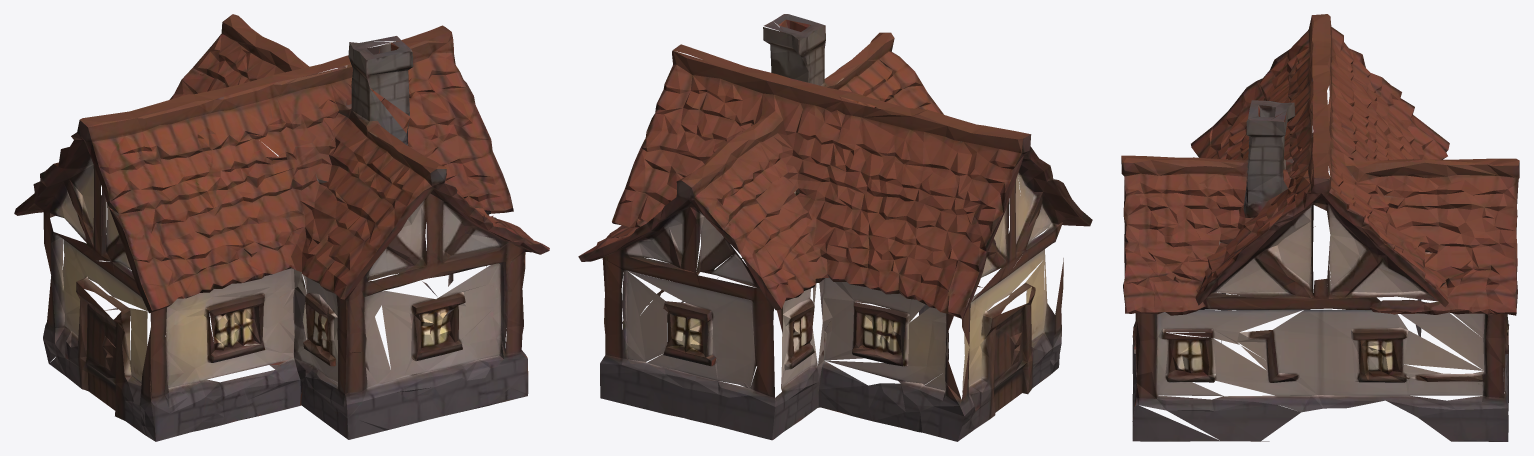
The model's file is house_b.glb.
The picture shows the model from 3 angles, left to right: view 1: azimuth 30°, elevation 25°; view 2: azimuth 150°, elevation 25°; view 3: azimuth 270°, elevation 25°; orthographic projection. The views are drawn at different scales.
Visible parts, largest first — view 1: geometry_0; view 2: geometry_0; view 3: geometry_0.
Part boxes in pixels (left/top/right/bottom): geometry_0: left=14, top=14, right=549, bottom=441; geometry_0: left=578, top=14, right=1092, bottom=441; geometry_0: left=1121, top=14, right=1519, bottom=441.
Bounding box in the file's own units: 2.5 × 2.05 × 2.49.
1 material, 1 textured.
